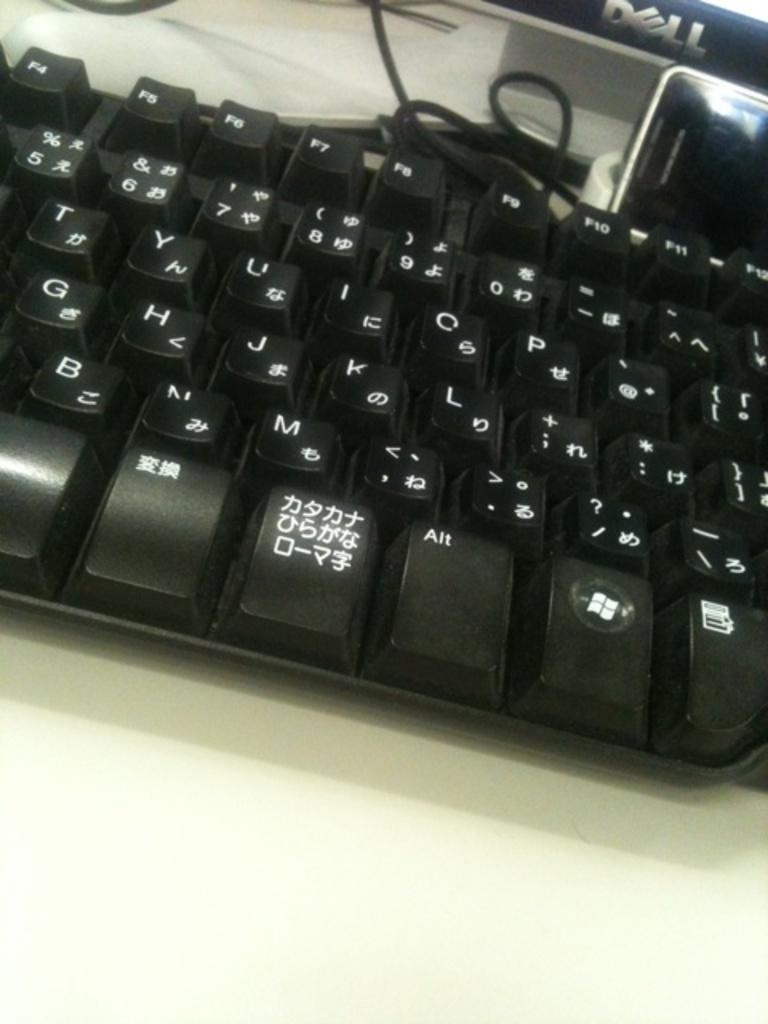Computer-keyboard: (0, 42, 766, 794)
